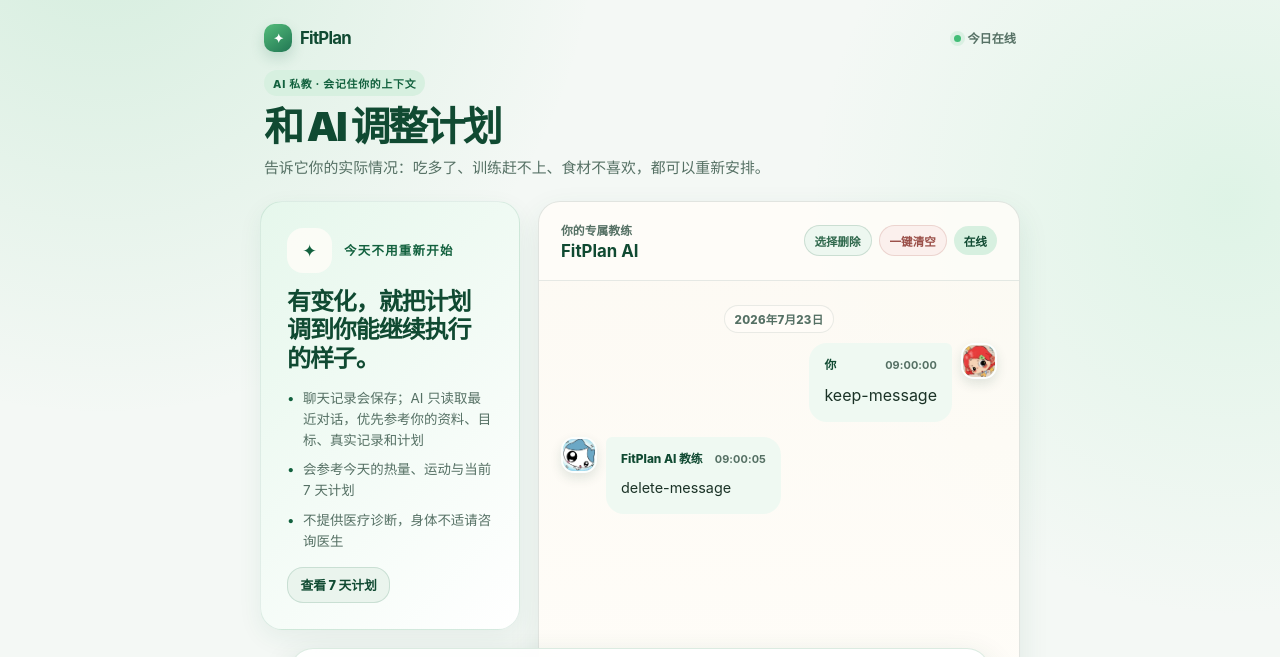
Test: CoachPage › deletes selected chat messages
Check: the text "delete-message" is shown, box [621, 479, 731, 496]
Click the button "选择删除".
click(838, 241)  # box [804, 225, 872, 256]
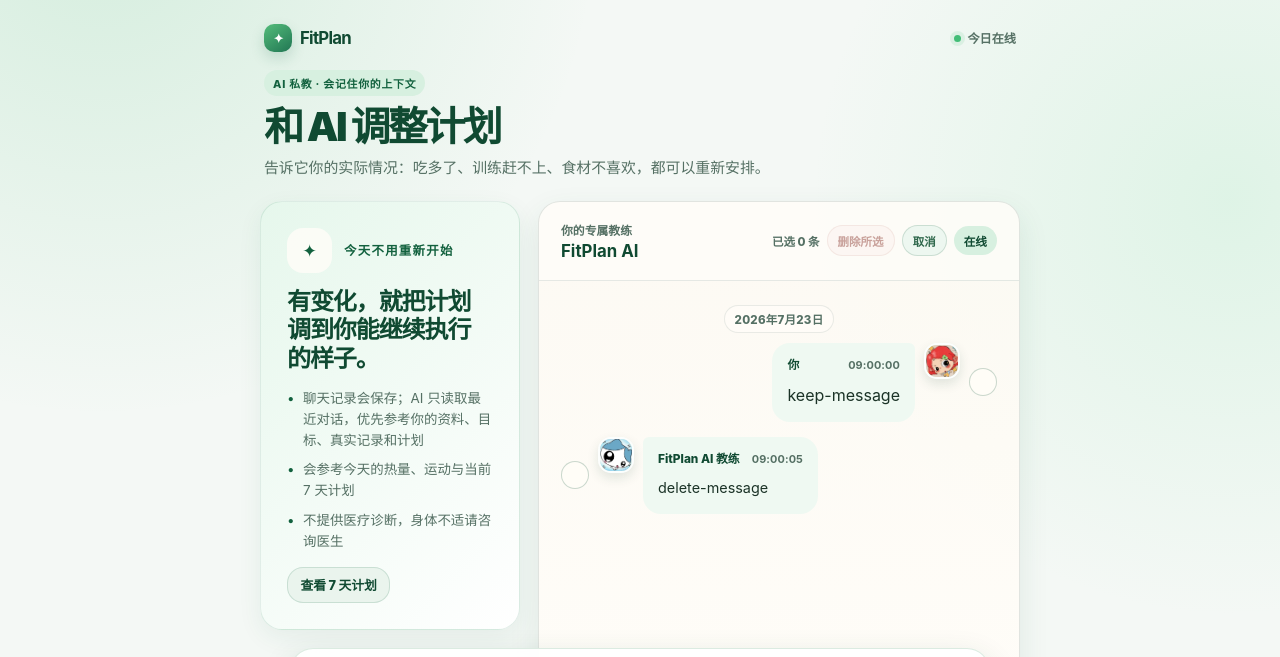
Click the checkbox named "选择聊天记录：delete-message".
click(575, 476)  # box [561, 462, 589, 490]
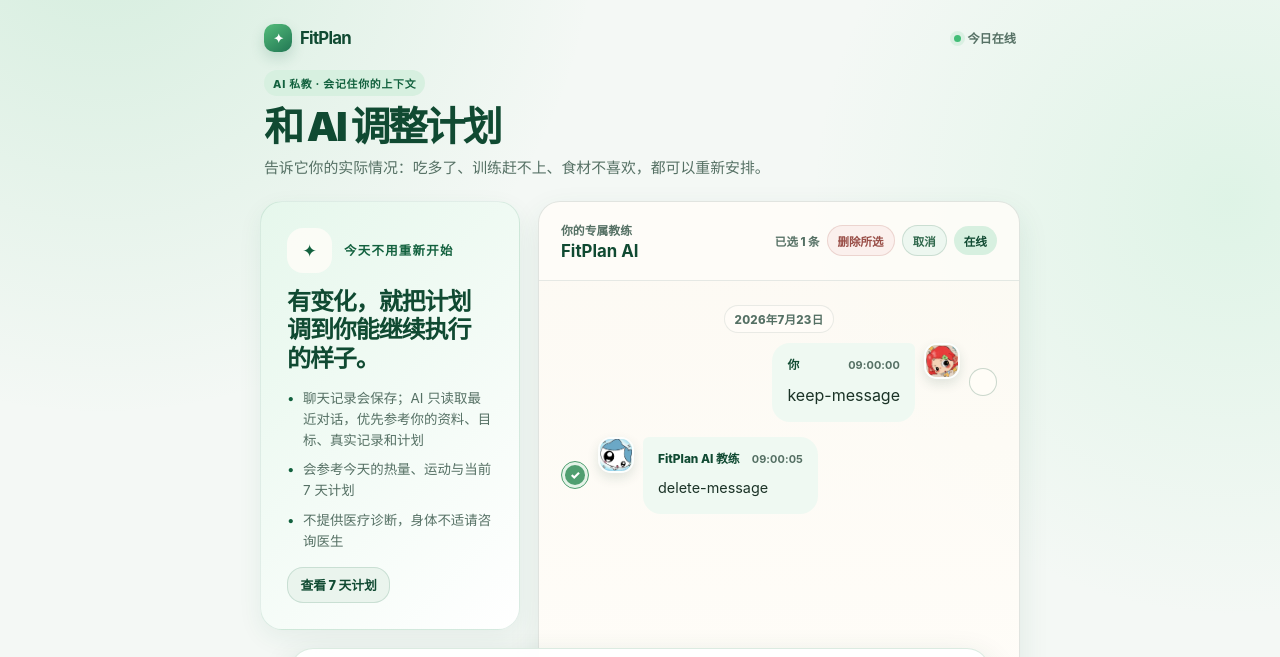
Click the button "删除所选".
click(861, 241)  # box [827, 225, 895, 256]
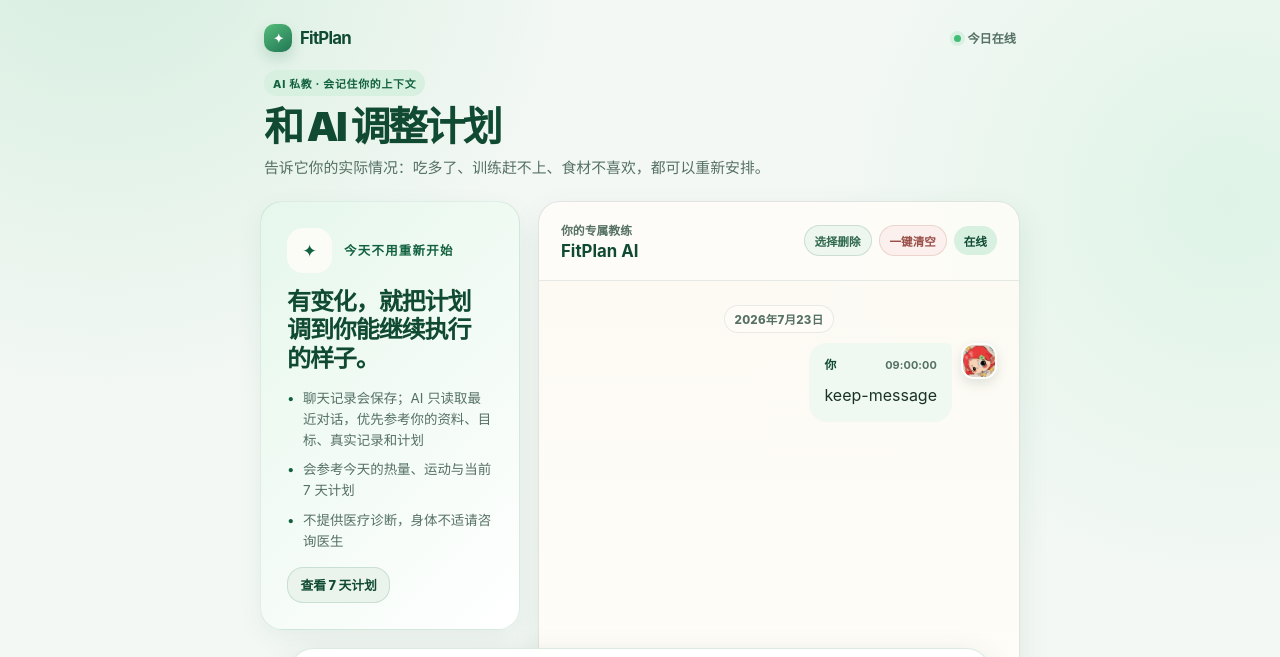
Check: the text "keep-message" is shown, box [824, 382, 937, 409]
Check: the text "delete-message" is gone
